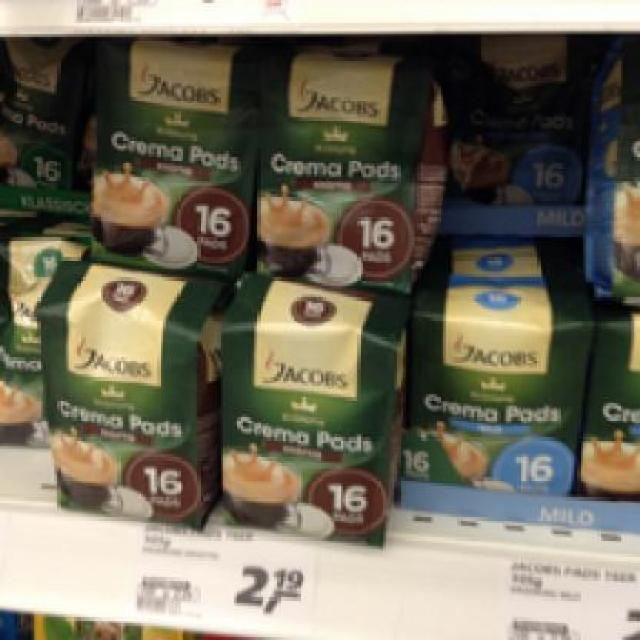Coffee: (214, 268, 403, 546), (34, 253, 220, 530), (251, 54, 443, 286), (397, 274, 592, 492), (88, 34, 254, 266)
